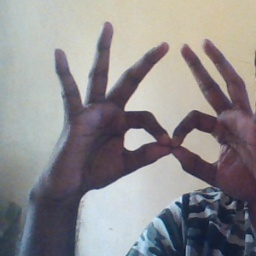B: (110, 91, 232, 178)
